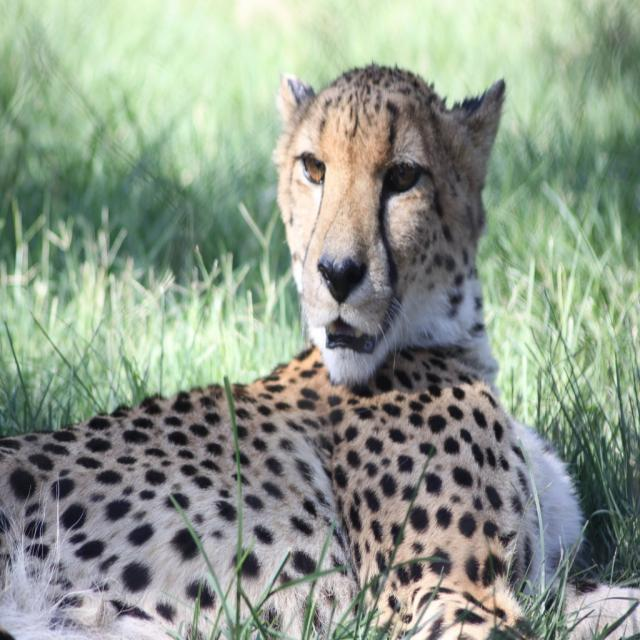Cheetah: (0, 60, 586, 639)
